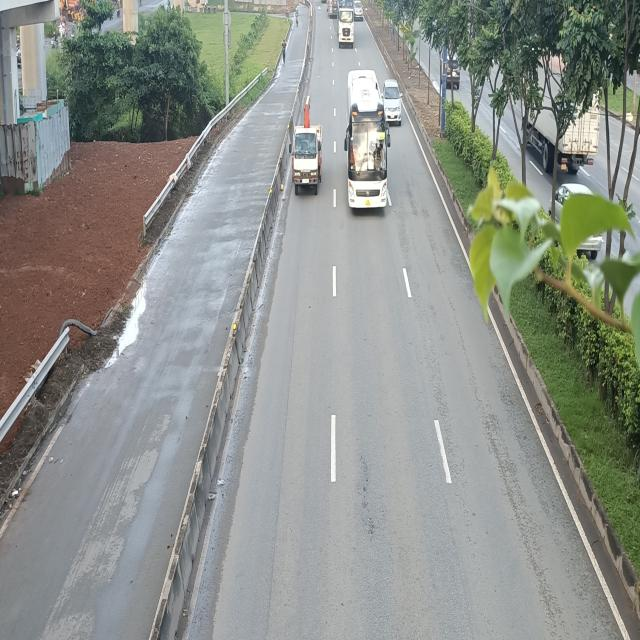car: (381, 82, 404, 128)
coach: (343, 70, 391, 211)
container: (338, 3, 354, 47)
truck: (289, 122, 321, 196)
